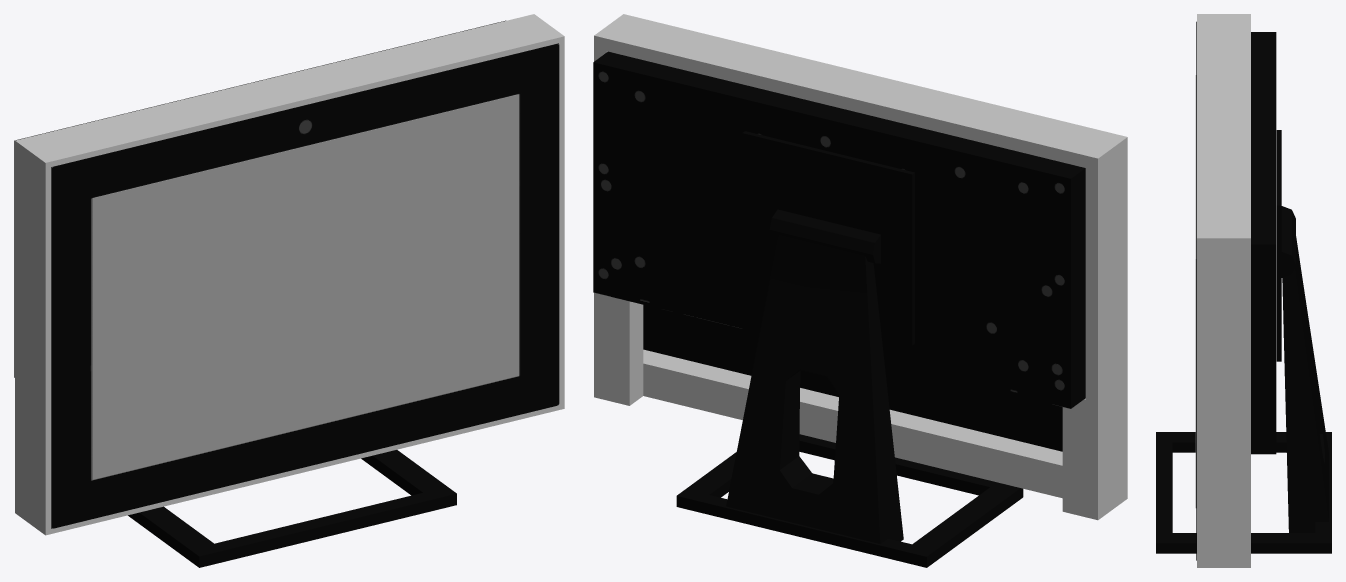
File: UTC_510st.fbx
3 renders of one model, left to right at view 1: azimuth 30°, elevation 25°; view 2: azimuth 150°, elevation 25°; view 3: azimuth 270°, elevation 25°, orthographic. The views are drawn at different scales.
Parts seen in each view (by area): view 1: A, B, C, E, D; view 2: D, E, C, B; view 3: C, E, D, A, B.
Boxes of the visible parts, left/top/right/bottom form: A: left=92, top=94, right=518, bottom=479; B: left=51, top=43, right=559, bottom=528; C: left=15, top=14, right=564, bottom=535; E: left=128, top=450, right=456, bottom=567; D: left=14, top=20, right=505, bottom=377; D: left=593, top=51, right=1085, bottom=408; E: left=676, top=131, right=1023, bottom=567; C: left=594, top=14, right=1127, bottom=520; B: left=643, top=305, right=1062, bottom=451; C: left=1197, top=14, right=1250, bottom=567; E: left=1156, top=130, right=1331, bottom=553; D: left=1251, top=32, right=1276, bottom=454; A: left=1195, top=75, right=1196, bottom=507; B: left=1196, top=21, right=1196, bottom=560.
Size of the model in its own units: 26.59 by 20.55 by 8.81.
